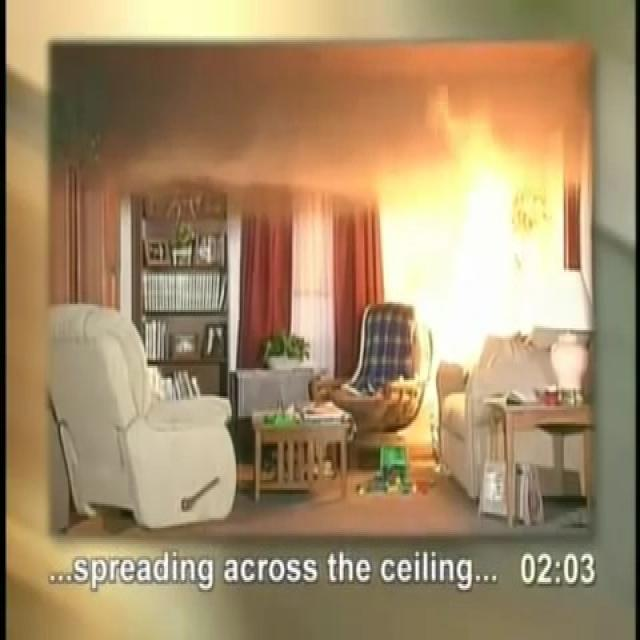Fire: (360, 56, 594, 396)
